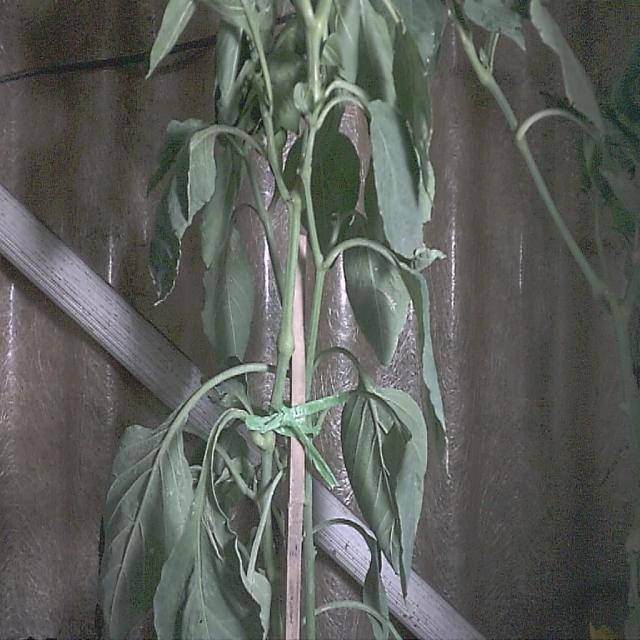Leaf: (100, 413, 192, 638), (400, 264, 448, 471), (530, 0, 604, 131), (369, 100, 423, 258), (344, 247, 409, 364), (203, 227, 254, 361), (147, 0, 195, 77), (464, 0, 525, 50)
